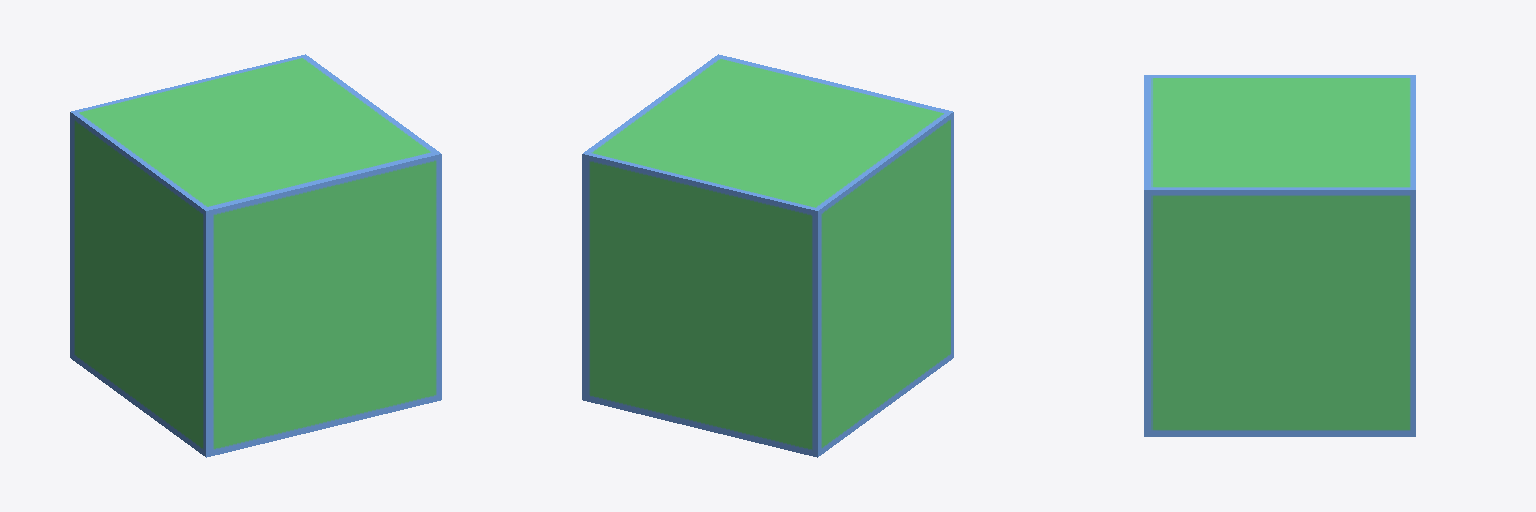
The picture shows the model from 3 angles: view 1: azimuth 30°, elevation 25°; view 2: azimuth 150°, elevation 25°; view 3: azimuth 270°, elevation 25°; orthographic projection.
Visible parts, largest first — view 1: 立方体; view 2: 立方体; view 3: 立方体.
Boxes of the visible parts, box(x1,y1,x2,y2) form: 立方体: box(70, 54, 441, 457); 立方体: box(582, 54, 953, 457); 立方体: box(1144, 75, 1415, 436).
Bounding box in the file's own units: 2 × 2 × 2.
Materials: 1 (1 with a texture image).